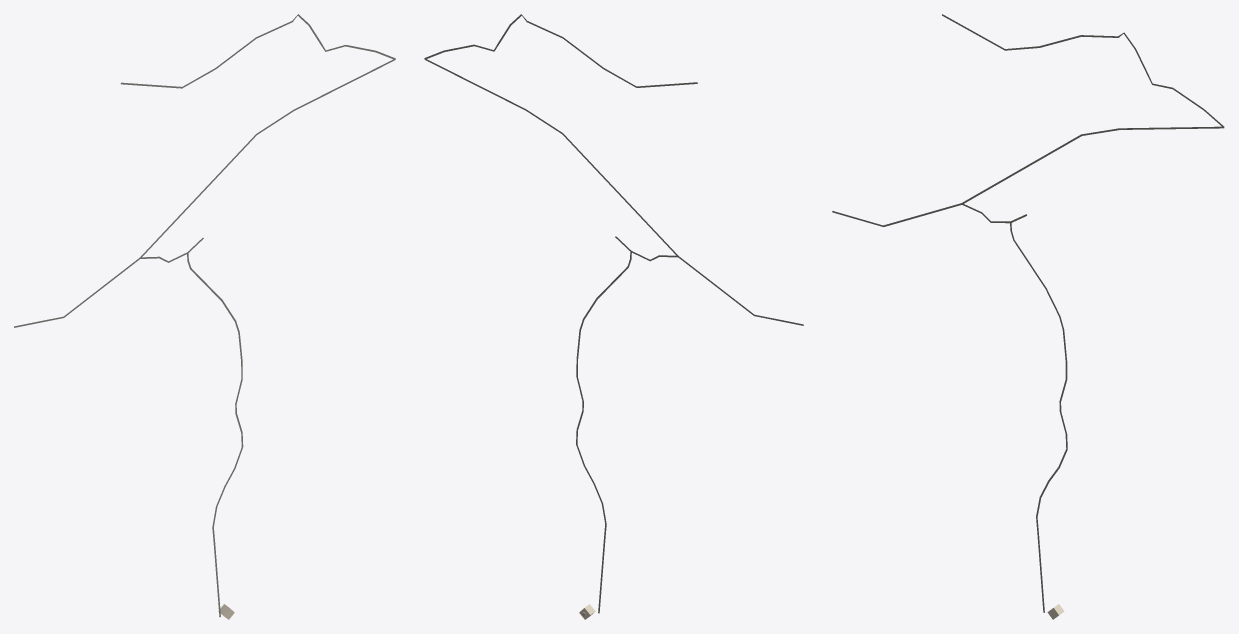
File: historic-palestine-08_11_3501_3057.glb
The picture shows the model from 3 angles, left to right: view 1: azimuth 30°, elevation 25°; view 2: azimuth 150°, elevation 25°; view 3: azimuth 330°, elevation 25°; orthographic projection. The views are drawn at different scales.
Parts seen in each view (by area): view 1: Road .004, Road .002, Road; view 2: Road .004, Road .002, Road; view 3: Road .004, Road .002, Road.
Boxes of the visible parts, x1,y1,x2,y2 form: Road .004: (14,59,395,327); Road .002: (187,253,243,617); Road: (120,14,395,88); Road .004: (424,58,803,325); Road .002: (576,251,631,613); Road: (424,14,697,87); Road .004: (832,126,1223,226); Road .002: (1010,222,1067,612); Road: (942,14,1224,127).
Bounding box in the file's own units: 315 × 464 × 8.7.
